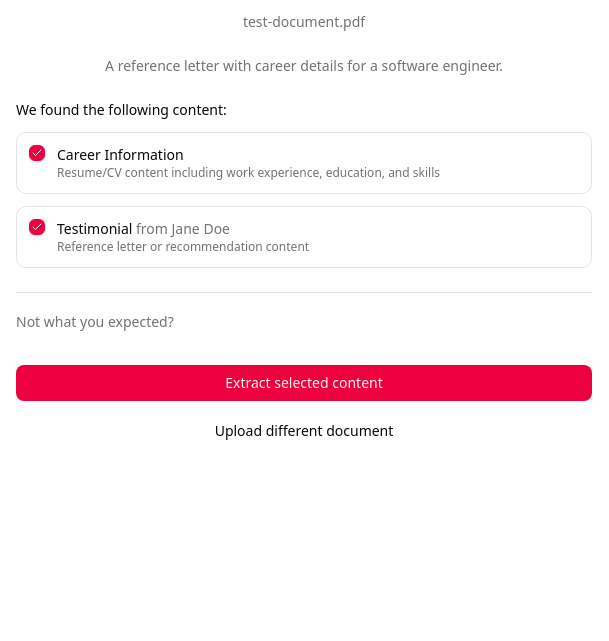
Test: DetectionResults › Correction UI › expands correction options when clicked
The image size is (609, 641).
Click the button "Not what you expected?". click: (95, 322)
box: [16,312,174,332]
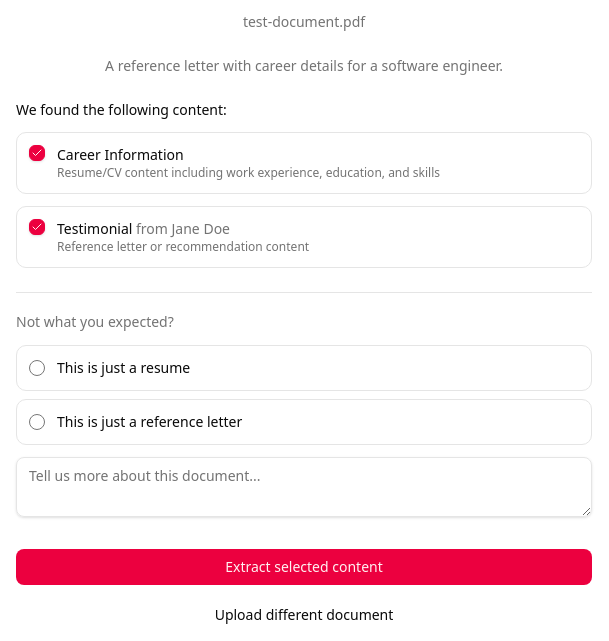
expect the radio button labelled "This is just a resume" is shown: met, box [29,360,45,376]
expect the radio button labelled "This is just a reference letter" is shown: met, box [29,414,45,430]
